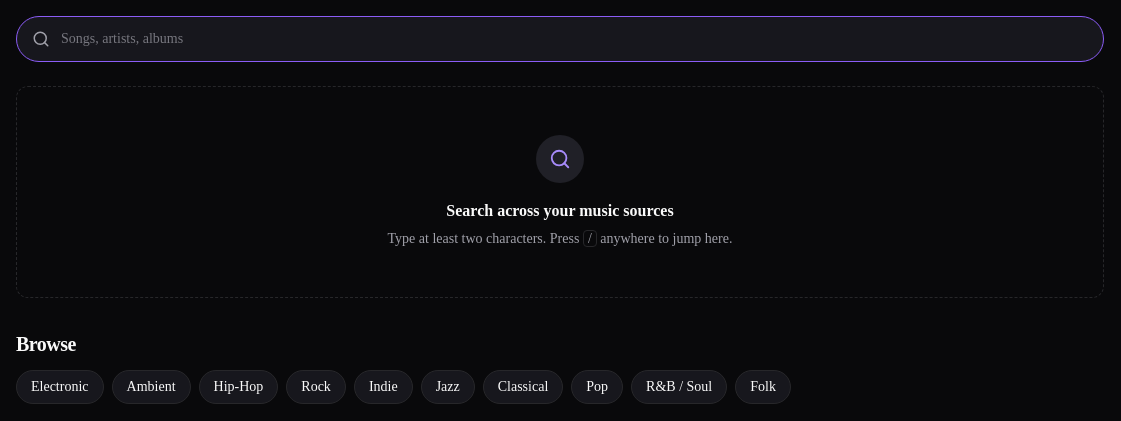
Test case: search › debounces typing into a single request, groups results, and records the search
In the search field: (560,39) [16,16,1104,62], type "lofi"
Wait 500 ms
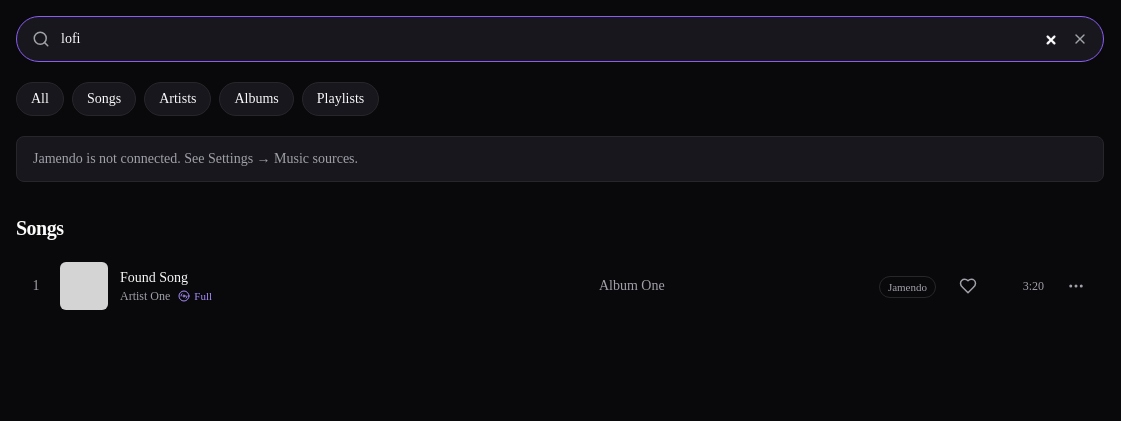
Check: the text "Found Song" is shown, box [120,270,188,285]
Check: the text "Jamendo is not connected. See Settings → Music sources." is shown, box [33,151,358,166]
